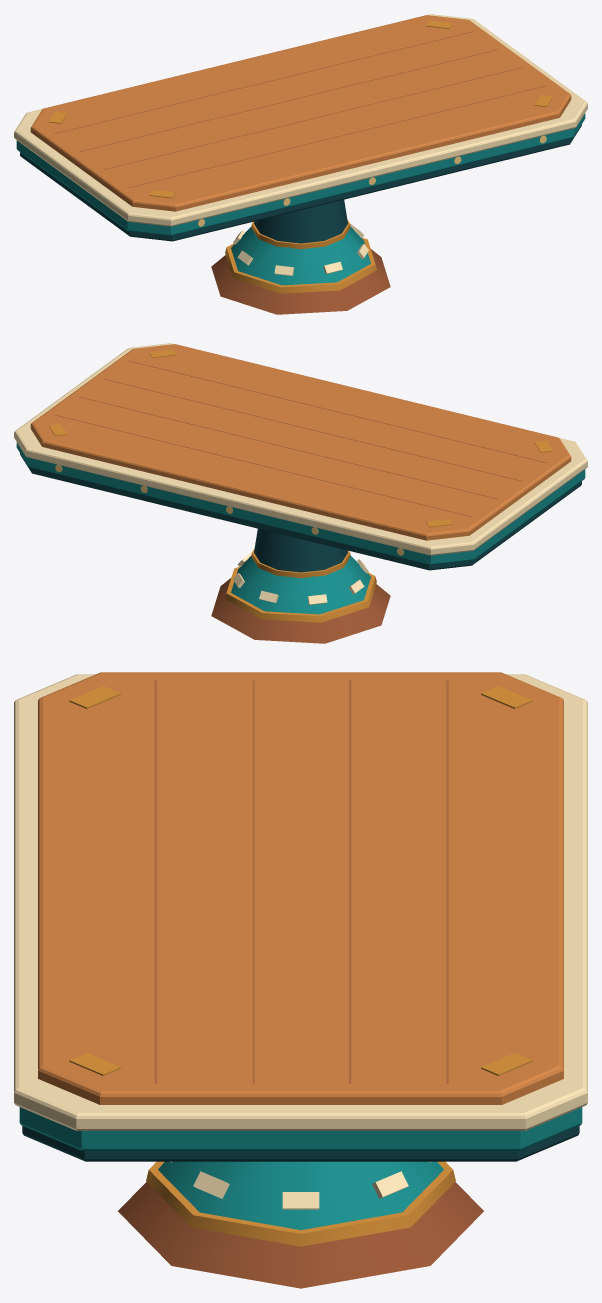
Rendered from ban-lam-kim.glb.
The picture shows the model from 3 angles, top to bottom: view 1: azimuth 30°, elevation 25°; view 2: azimuth 150°, elevation 25°; view 3: azimuth 270°, elevation 25°; orthographic projection. The views are drawn at different scales.
Parts seen in each view (by area): view 1: TableSurface, Viền vỏ sò, Khung men ngọc, Gót men ngọc, Đế gỗ bát giác, Khung đá ngầm, Cổ trụ, Đường ghép ván (×4), Vành chân, Viền gót; view 2: TableSurface, Viền vỏ sò, Khung men ngọc, Gót men ngọc, Đế gỗ bát giác, Khung đá ngầm, Cổ trụ, Đường ghép ván (×4), Vành chân, Viền gót; view 3: TableSurface, Viền vỏ sò, Đế gỗ bát giác, Gót men ngọc, Khung men ngọc, Vành chân, Khung đá ngầm, Đường ghép ván (×4).
Part boxes in pixels (x1,y1,x2,y2): TableSurface: (30, 15, 571, 211); Viền vỏ sò: (14, 14, 587, 226); Khung men ngọc: (16, 113, 585, 235); Gót men ngọc: (231, 226, 370, 285); Đế gỗ bát giác: (211, 249, 390, 314); Khung đá ngầm: (20, 124, 581, 241); Cổ trụ: (254, 199, 347, 243); Đường ghép ván (×4): (54, 31, 546, 187); Vành chân: (225, 237, 376, 293); Viền gót: (251, 219, 350, 249); TableSurface: (30, 344, 571, 540); Viền vỏ sò: (14, 343, 587, 555); Khung men ngọc: (16, 442, 585, 564); Gót men ngọc: (231, 555, 370, 614); Đế gỗ bát giác: (211, 578, 390, 643); Khung đá ngầm: (20, 453, 581, 570); Cổ trụ: (254, 528, 347, 572); Đường ghép ván (×4): (54, 360, 546, 517); Vành chân: (225, 566, 376, 622); Viền gót: (251, 548, 350, 578); TableSurface: (38, 672, 563, 1104); Viền vỏ sò: (14, 674, 587, 1130); Đế gỗ bát giác: (118, 1182, 483, 1288); Gót men ngọc: (158, 1161, 443, 1229); Khung men ngọc: (19, 1107, 582, 1150); Vành chân: (146, 1161, 455, 1246); Khung đá ngầm: (22, 1126, 579, 1161); Đường ghép ván (×4): (154, 680, 448, 1083).
Size of the model in its own units: 3.72 by 1.29 by 2.04.
